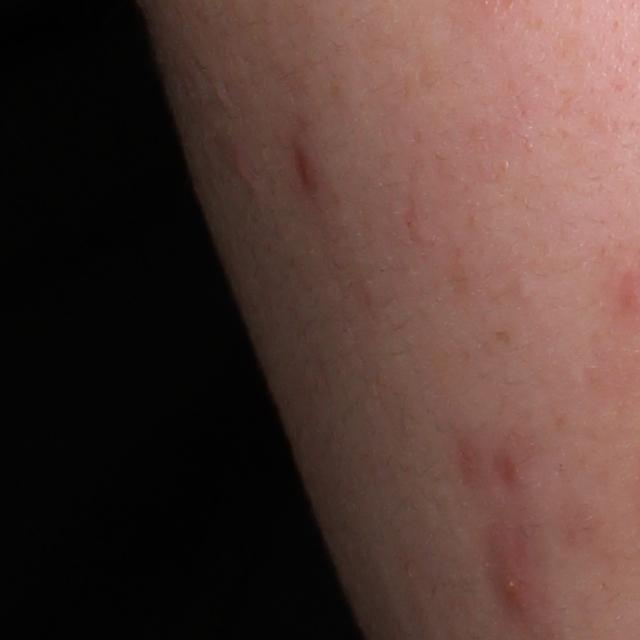comedo: (511, 277, 536, 301)
papule: (490, 532, 534, 610), (295, 145, 326, 192), (229, 147, 258, 188), (500, 455, 528, 490)
